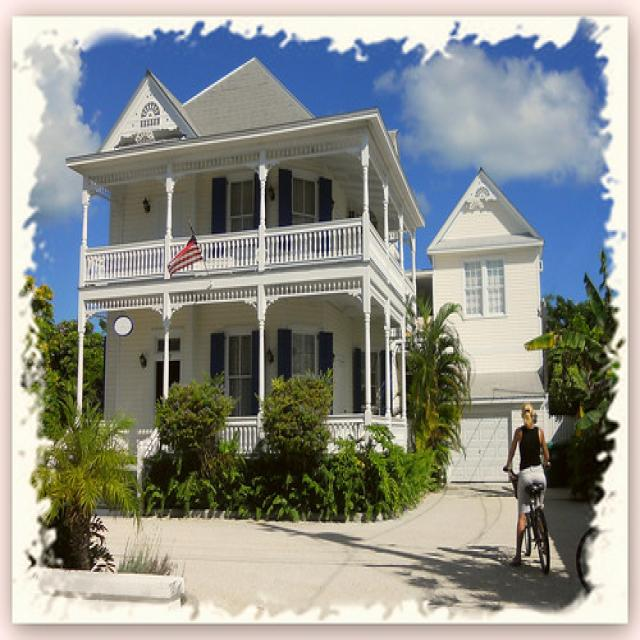building: (60, 54, 557, 520)
